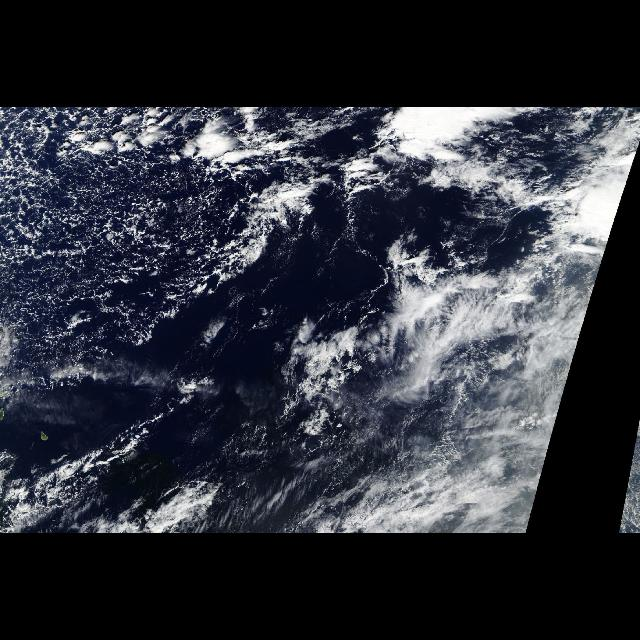Gravel: (2, 108, 344, 366)
